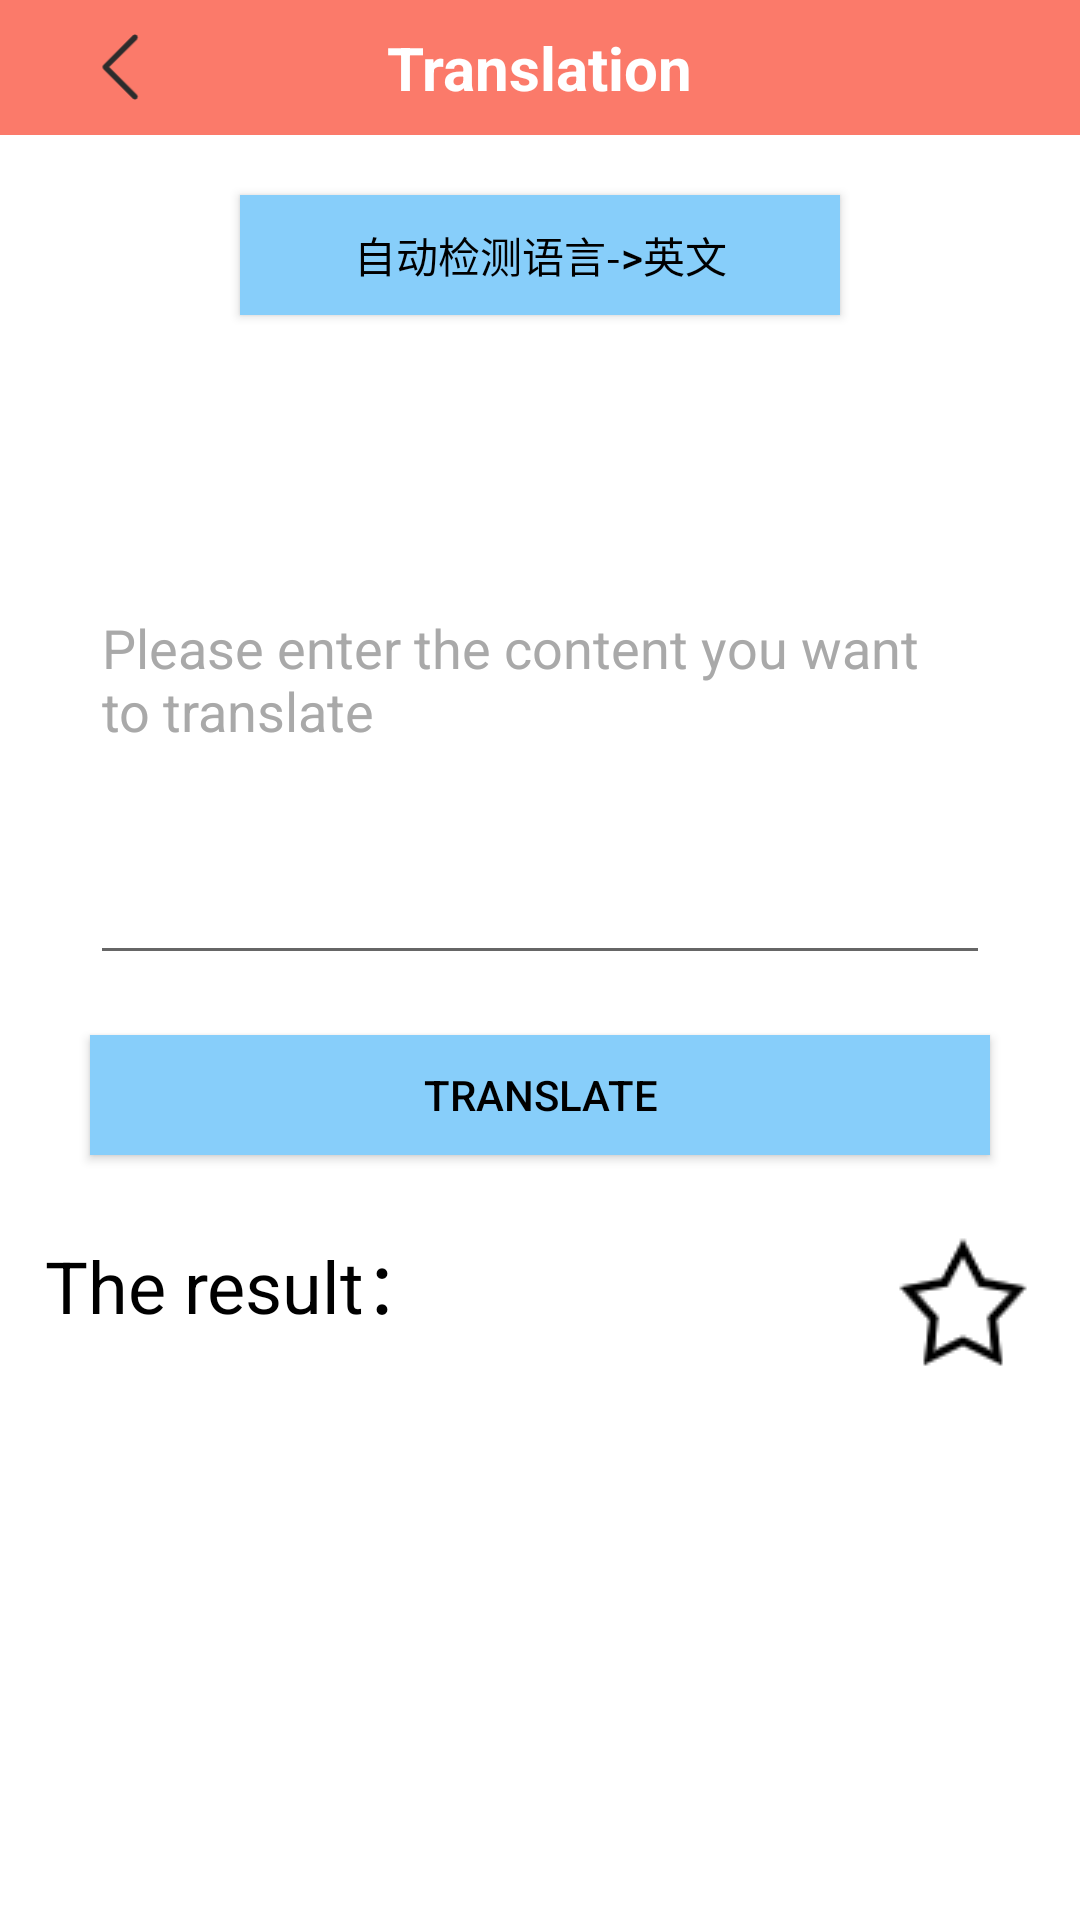

Icons on this 1080w x 1920h Android screen, each with its box as (x1, y1, x2, y2):
back: (102, 34, 138, 100)
collect: (899, 1239, 1027, 1366)
